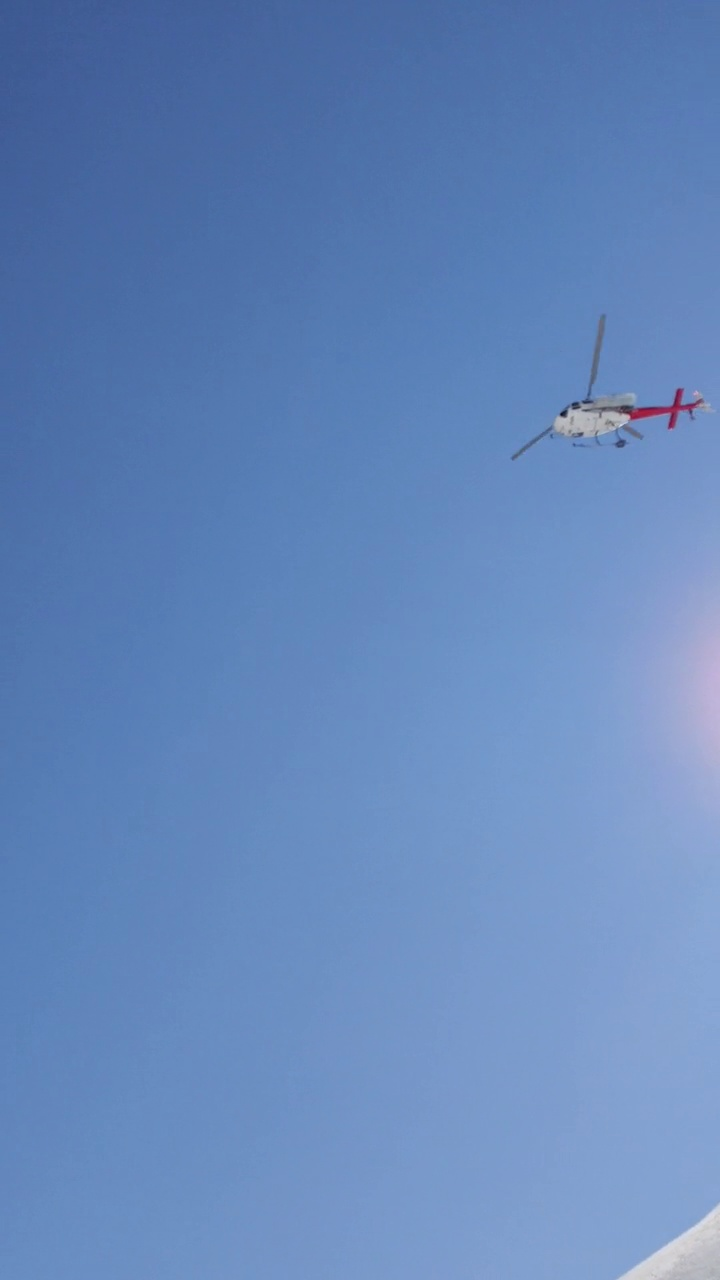heli: (501, 317, 713, 468)
